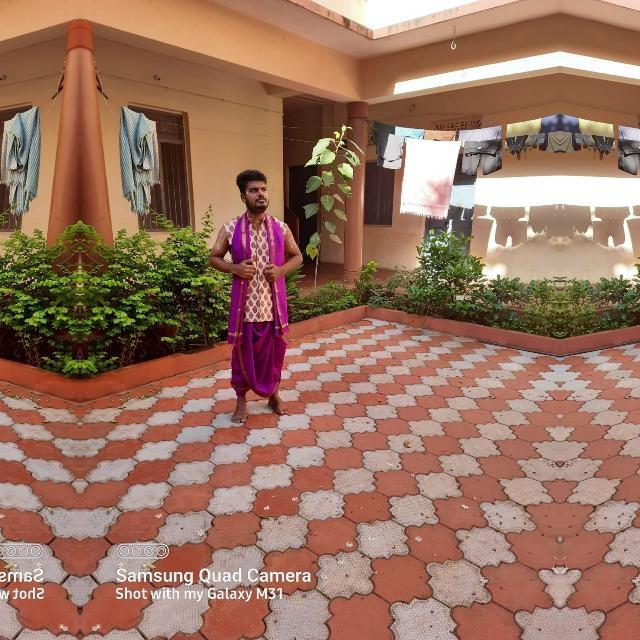person: (218, 155, 304, 431)
